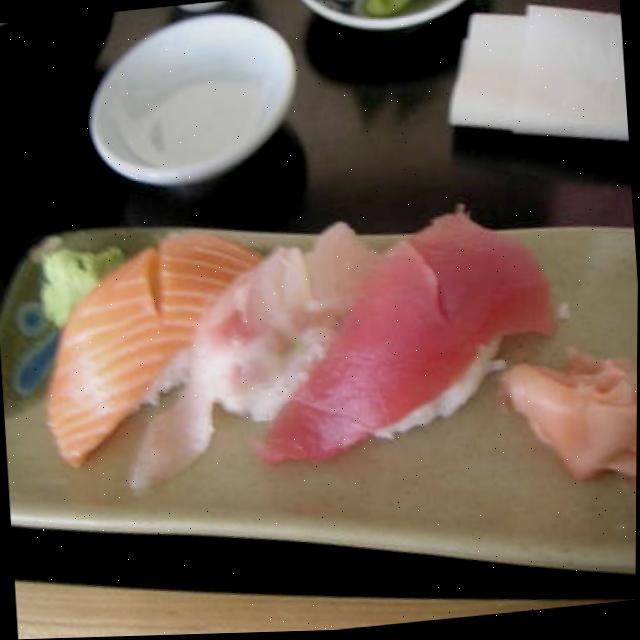寿司卷物: (252, 204, 562, 458)
